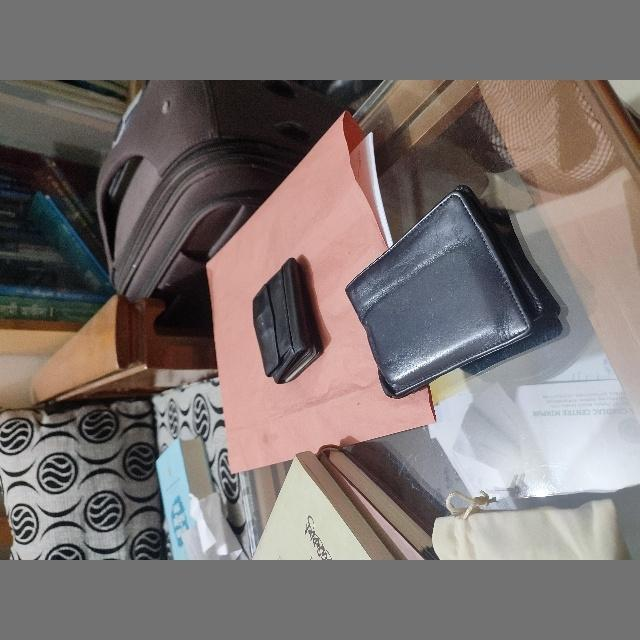Wallet: (346, 185, 550, 398), (249, 258, 323, 382)
